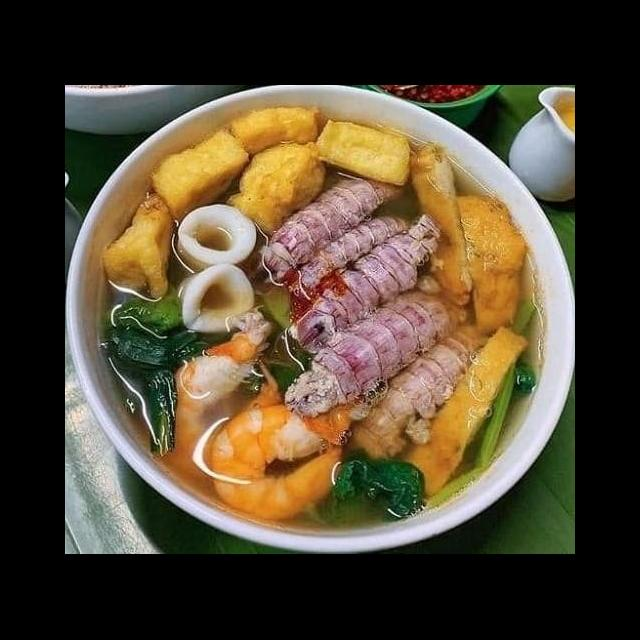dau hu: (147, 121, 254, 228), (221, 136, 329, 238), (98, 188, 183, 304), (306, 116, 413, 190), (224, 102, 329, 164)
muc: (165, 260, 258, 338), (169, 202, 262, 276)
tom: (145, 306, 291, 484), (205, 398, 359, 526)
tom tit: (280, 274, 480, 420), (286, 208, 450, 360), (343, 314, 500, 466), (243, 172, 413, 292), (280, 210, 417, 304)
